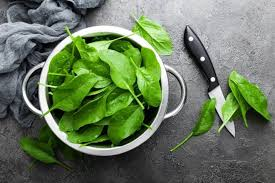spinach: (64, 56, 137, 132)
